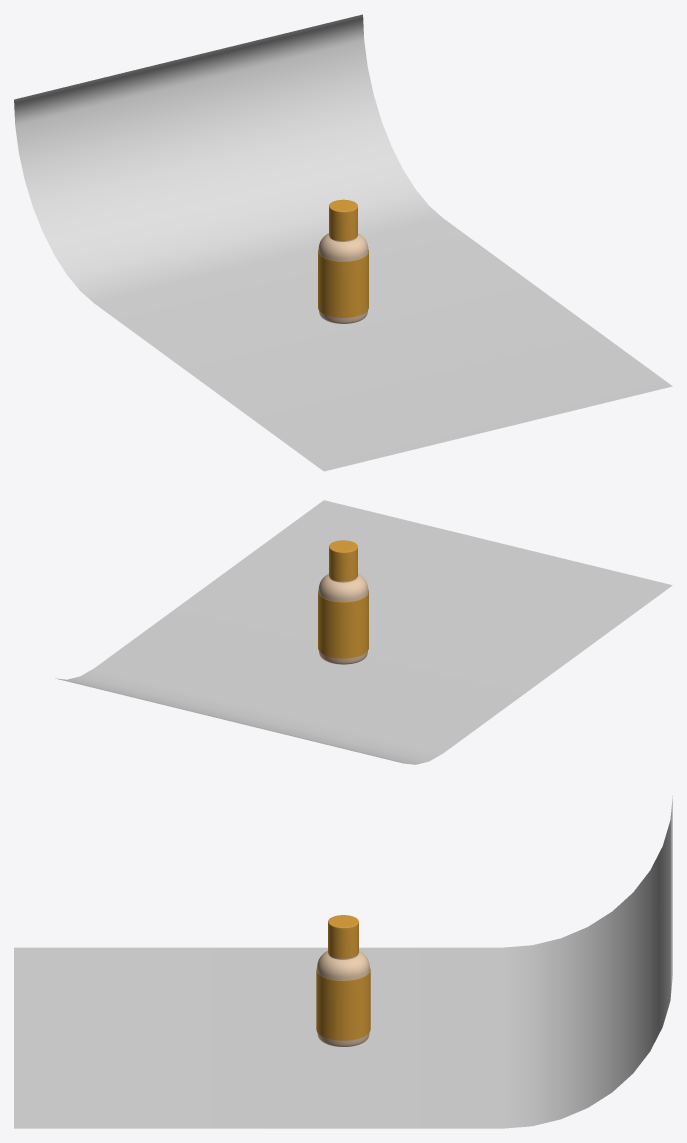
Rendered from gltf_test_flask2.glb.
3 renders of one model, top to bottom at view 1: azimuth 30°, elevation 25°; view 2: azimuth 150°, elevation 25°; view 3: azimuth 270°, elevation 25°, orthographic. The views are drawn at different scales.
Parts seen in each view (by area): view 1: objMark, objBottleBase, objBottleLid; view 2: objMark, objBottleBase, objBottleLid; view 3: objMark, objBottleBase, objBottleLid.
Part boxes in pixels (left/top/right/bottom): objMark: left=14, top=14, right=672, bottom=471; objBottleBase: left=318, top=233, right=368, bottom=323; objBottleLid: left=329, top=199, right=357, bottom=240; objMark: left=55, top=500, right=672, bottom=764; objBottleBase: left=318, top=574, right=368, bottom=664; objBottleLid: left=329, top=540, right=357, bottom=581; objMark: left=14, top=795, right=672, bottom=1128; objBottleBase: left=316, top=950, right=370, bottom=1046; objBottleLid: left=328, top=915, right=358, bottom=958.
Size of the model in its own units: 8.76 by 3.48 by 13.48.
